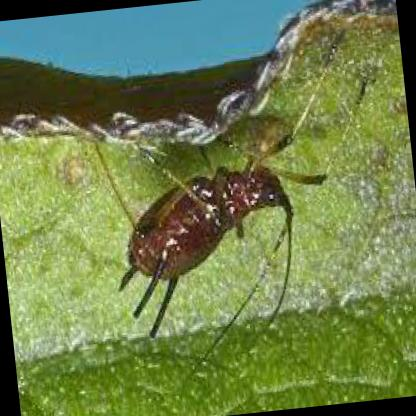uroleucon compositae: (117, 83, 366, 339)
